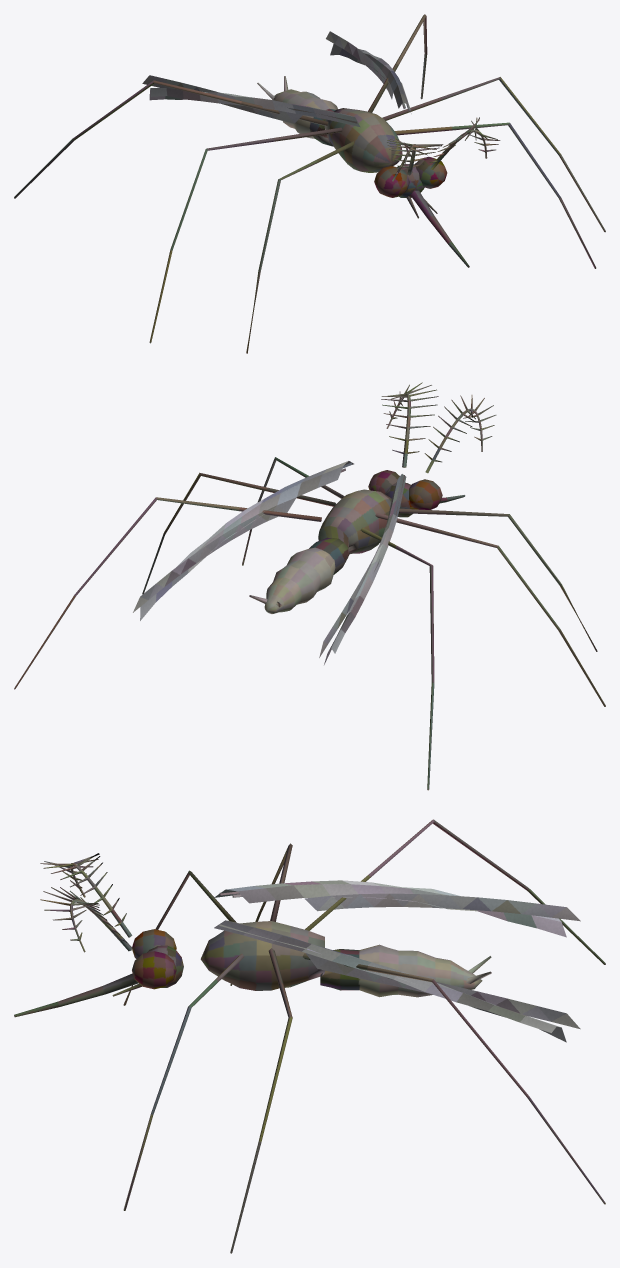
Rendered from Muecke.fbx.
3 renders of one model, top to bottom at view 1: azimuth 30°, elevation 25°; view 2: azimuth 150°, elevation 25°; view 3: azimuth 270°, elevation 25°, orthographic. The views are drawn at different scales.
Parts seen in each view (by area): view 1: Beine, Koerper, Wing_L, Kopf, Wing_R, Fuehler_L, Schnabel, Fuehler_R; view 2: Koerper, Beine, Wing_R, Wing_L, Kopf, Fuehler_R, Fuehler_L; view 3: Koerper, Wing_L, Beine, Wing_R, Kopf, Fuehler_L, Fuehler_R, Schnabel.
Boxes of the visible parts, left/top/right/bottom form: Beine: left=14, top=14, right=605, bottom=353; Koerper: left=257, top=76, right=402, bottom=172; Wing_L: left=142, top=75, right=360, bottom=127; Kopf: left=374, top=156, right=447, bottom=197; Wing_R: left=326, top=31, right=411, bottom=113; Fuehler_L: left=387, top=138, right=443, bottom=181; Schnabel: left=406, top=190, right=469, bottom=267; Fuehler_R: left=429, top=117, right=500, bottom=169; Koerper: left=249, top=489, right=391, bottom=613; Beine: left=14, top=457, right=605, bottom=790; Wing_R: left=133, top=461, right=353, bottom=620; Wing_L: left=319, top=474, right=406, bottom=664; Kopf: left=368, top=470, right=442, bottom=517; Fuehler_R: left=381, top=382, right=438, bottom=467; Fuehler_L: left=424, top=395, right=496, bottom=473; Koerper: left=200, top=921, right=491, bottom=997; Wing_L: left=214, top=880, right=580, bottom=937; Beine: left=123, top=819, right=605, bottom=1253; Wing_R: left=214, top=920, right=580, bottom=1042; Kopf: left=132, top=929, right=183, bottom=989; Fuehler_L: left=40, top=853, right=132, bottom=937; Fuehler_R: left=40, top=887, right=132, bottom=952; Schnabel: left=14, top=973, right=142, bottom=1017.
Bounding box in the file's own units: 0.0536 × 0.0224 × 0.0499.
Materials: 2 (2 with a texture image).
